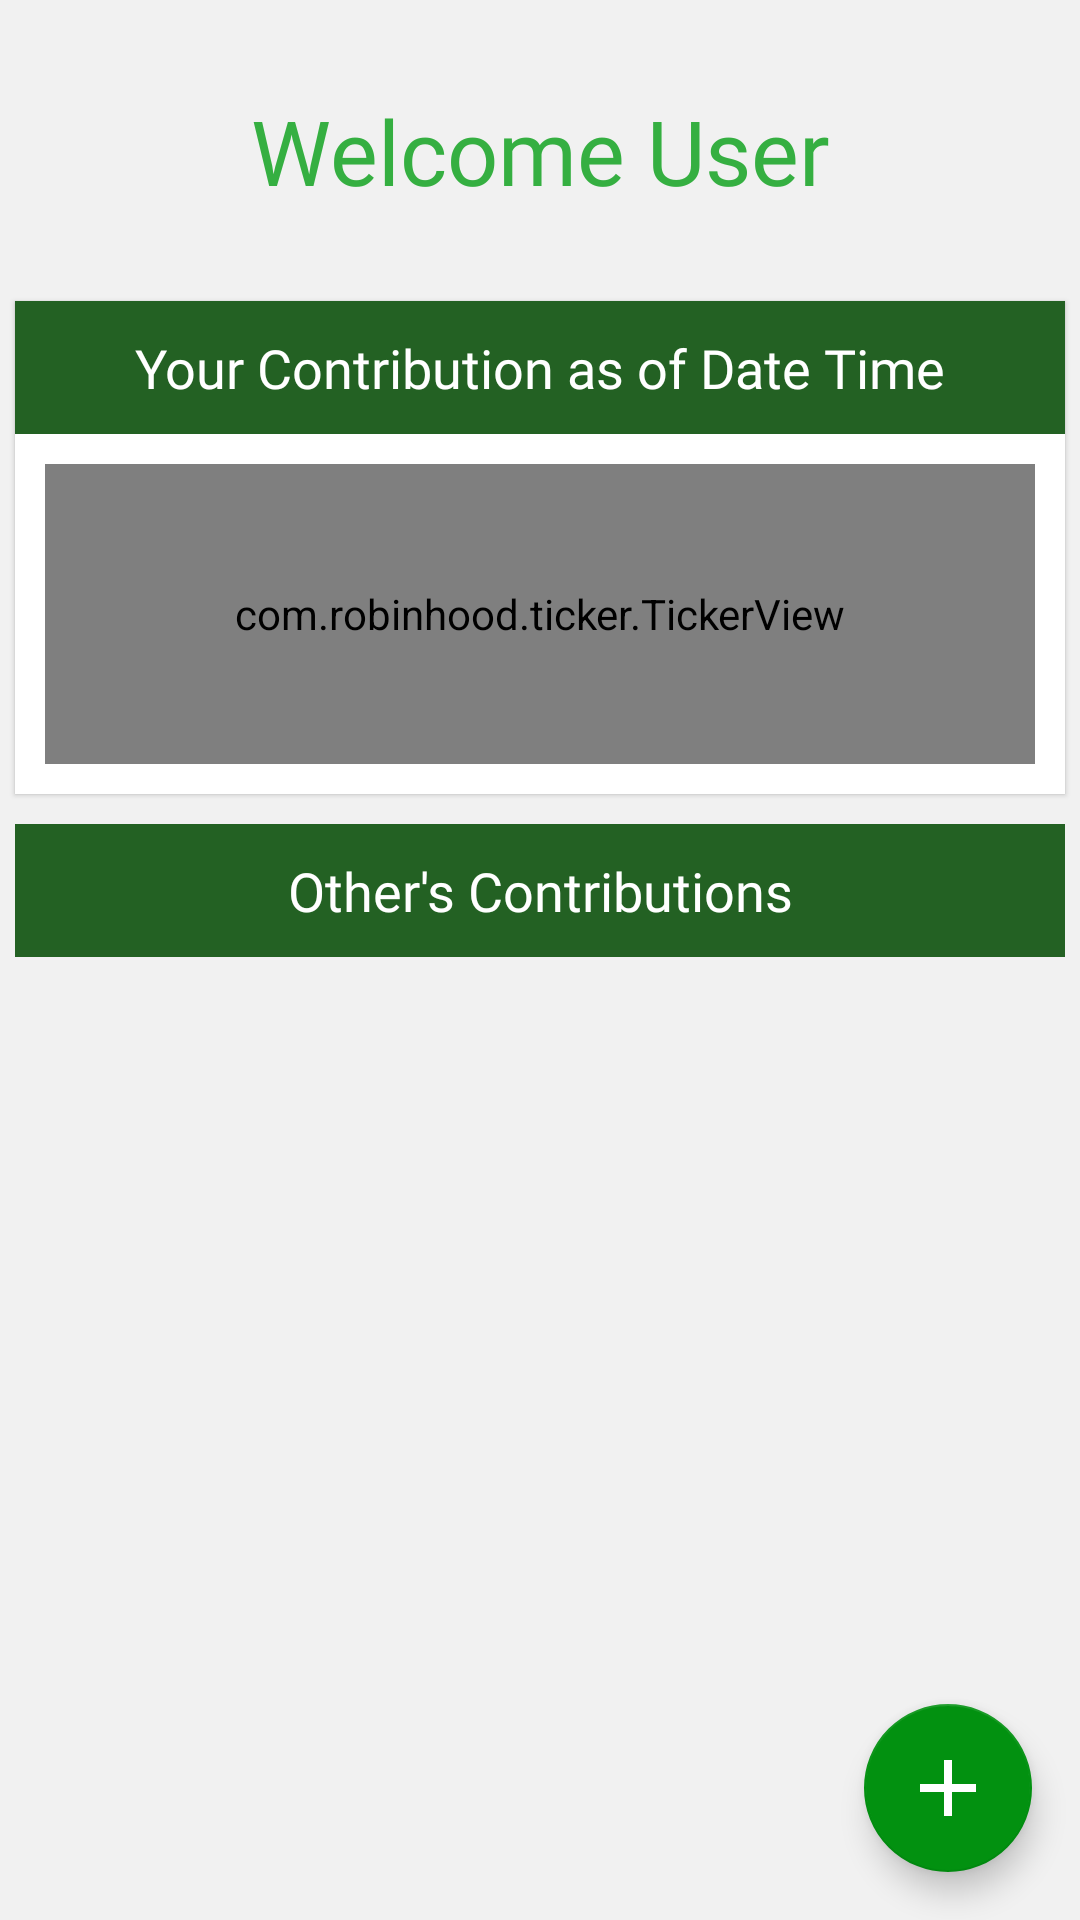

Icons on this 1080w x 1920h Android screen, each with its box as (x1, y1, x2, y2):
Add New Transaction: (864, 1704, 1032, 1872)
